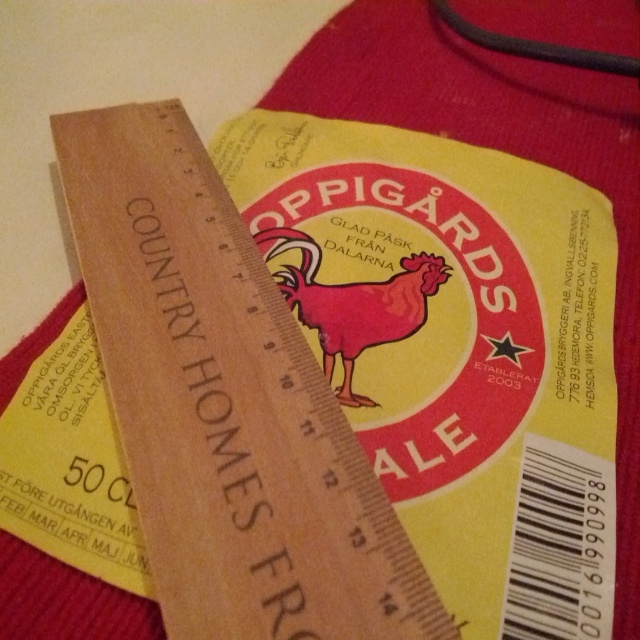Chicken: (253, 219, 458, 407)
